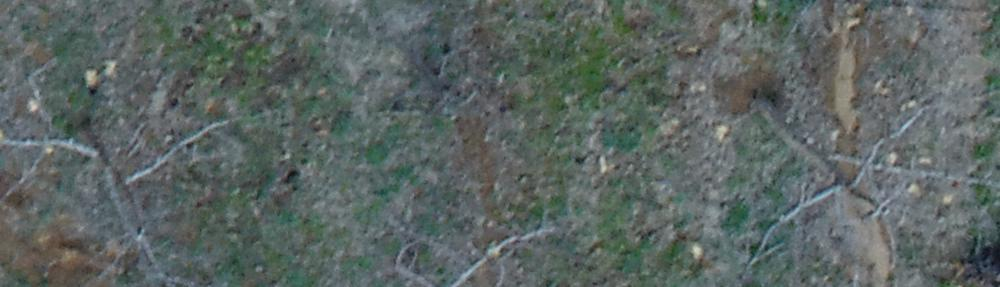apple: (729, 75, 990, 268), (10, 84, 275, 266)
